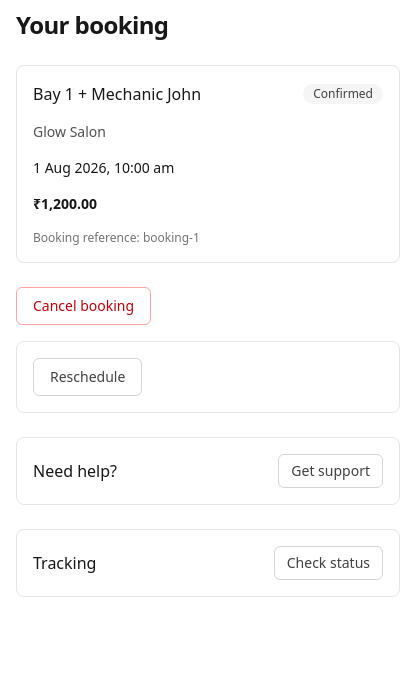
Test: BookingStatusPage › livetracker6.md §2.1: reschedules a real Automotive multi-resource (bay+mechanic) booking, moving both together
Expected: the text "Bay 1 + Mechanic John" is shown, [33,82,201,106]
Click the button "Reschedule" at [88, 377], box [33,358,142,396]
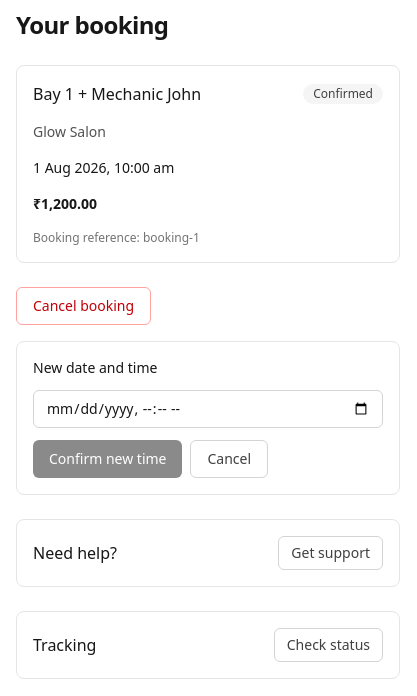
Type "2026-08-05T11:00" into the field labelled "New date and time" at [208, 409], box [33,390,383,428]
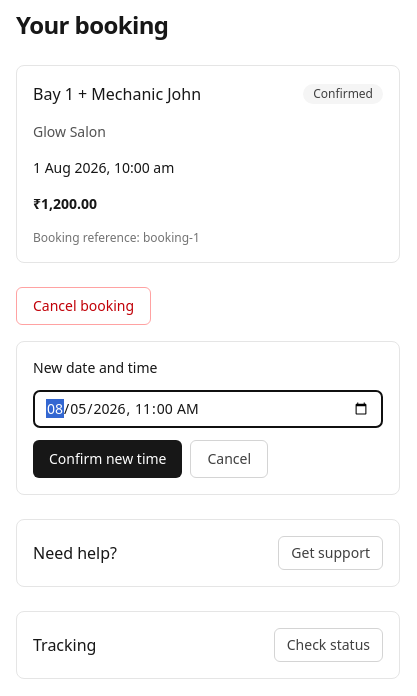
Click the button "Confirm new time" at [108, 459], box [33,440,182,478]
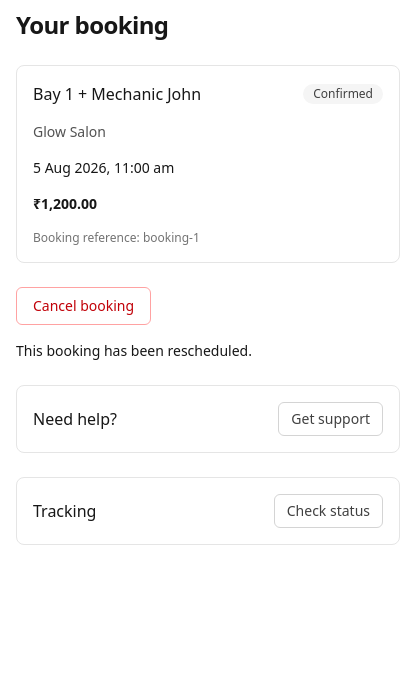
Expected: the text "Bay 1 + Mechanic John" is shown, [33,82,201,106]
Expected: the text "This booking has been rescheduled." is shown, [16,341,252,360]
